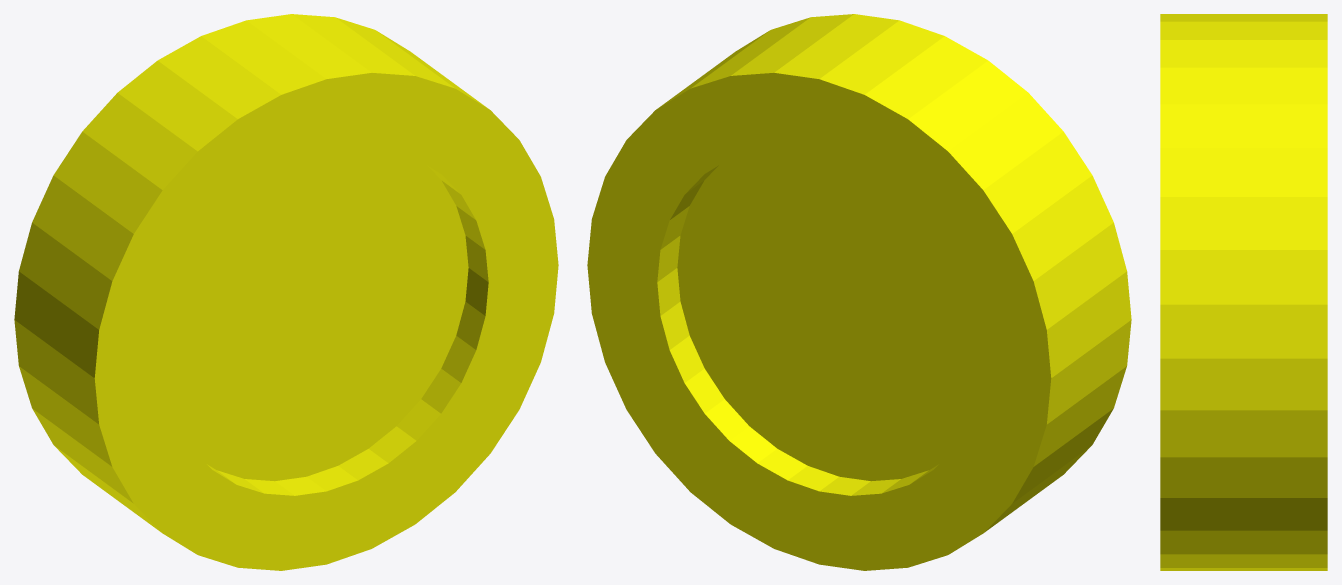
File: Coin.fbx
3 views of the same model, side by side, from view 1: azimuth 30°, elevation 25°; view 2: azimuth 150°, elevation 25°; view 3: azimuth 270°, elevation 25° (orthographic). The views are drawn at different scales.
Parts seen in each view (by area): view 1: Coin; view 2: Coin; view 3: Coin.
Part boxes in pixels (x1,y1,x2,y2): Coin: (14,14,558,570); Coin: (587,14,1131,570); Coin: (1160,14,1327,570).
Bounding box in the file's own units: 200 × 200 × 60.
